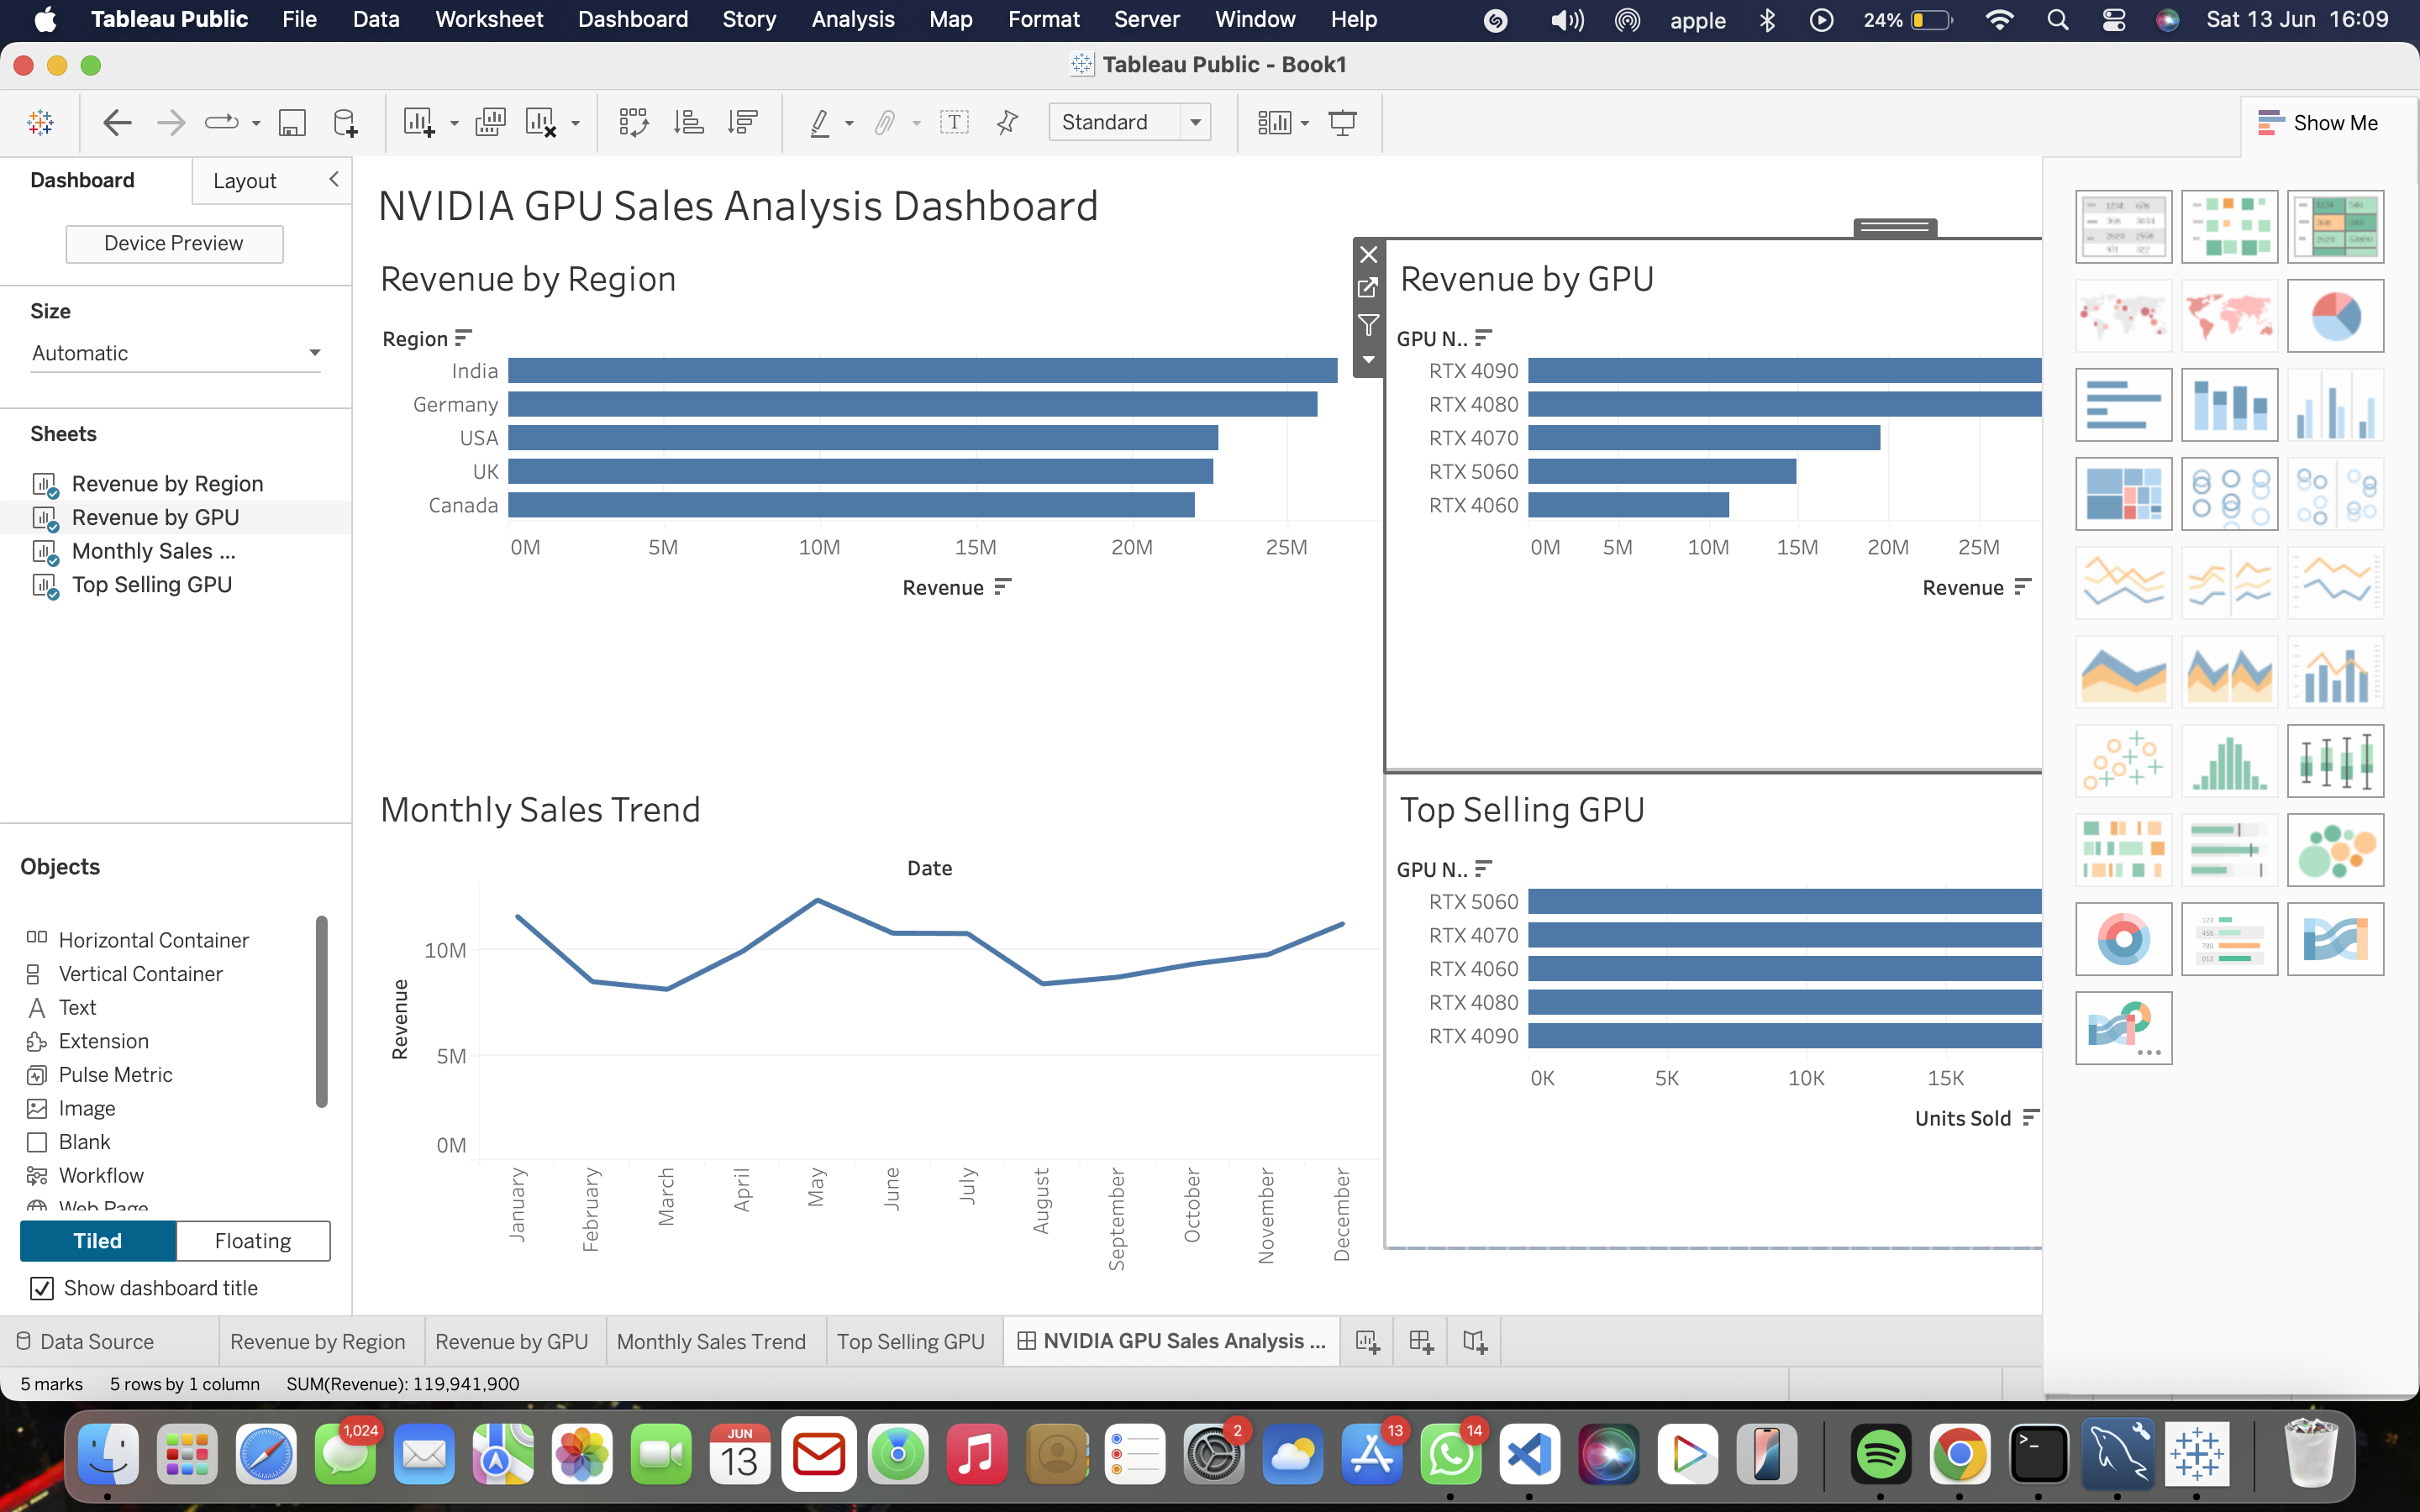

Layout of this report page (visuals, bound fields, positions):
{"tool":"tableau","page":{"name":"NVIDIA GPU Sales Analysis Dashboard","canvas":[1000,1000],"units":"permille","ordinal":0},"visuals":[{"type":"title","box":[6.5,11.6,987,61]},{"type":"worksheet","title":"Revenue by Region","mark":"Automatic","rows":["Region"],"cols":["Revenue"],"box":[6.5,72.6,493.5,457.9]},{"type":"worksheet","title":"Revenue by GPU","mark":"Automatic","rows":["GPU_Name"],"cols":["Revenue"],"box":[500,72.6,493.5,457.9]},{"type":"worksheet","title":"Monthly Sales Trend","mark":"Automatic","rows":["Revenue"],"cols":["Date"],"box":[6.5,530.5,493.5,457.9]},{"type":"worksheet","title":"Top Selling GPU","mark":"Automatic","rows":["GPU_Name"],"cols":["Units_Sold"],"box":[500,530.5,493.5,410.7]}]}

Visuals, with their boxes on the dashboard's canvas, which has no fixed pixel size, in thousandths of its width and height (x1, y1, x2, y2). These are canvas units, not pixel positions in the 2420x1512 screenshot, which may show the page scaled, cropped or inside an application window:
title: rect(6, 12, 994, 73)
"Revenue by Region" worksheet: rect(6, 73, 500, 530)
"Revenue by GPU" worksheet: rect(500, 73, 994, 530)
"Monthly Sales Trend" worksheet: rect(6, 530, 500, 988)
"Top Selling GPU" worksheet: rect(500, 530, 994, 941)
